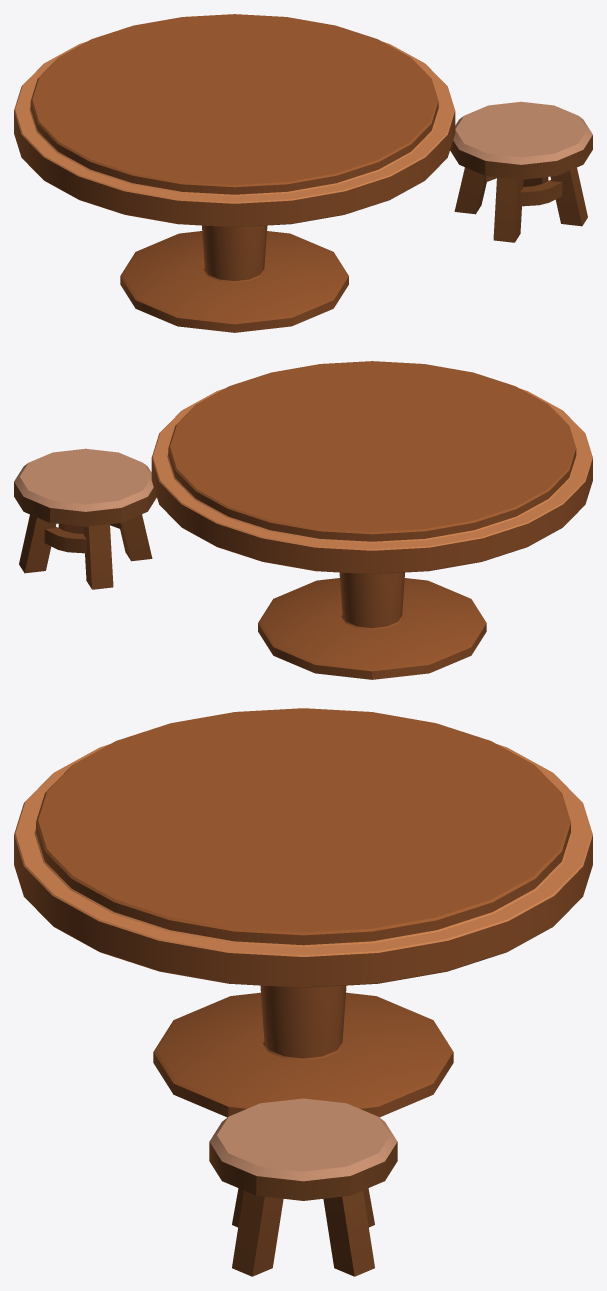
Rendered from PirateProps.fbx.
3 renders of one model, top to bottom at view 1: azimuth 30°, elevation 25°; view 2: azimuth 150°, elevation 25°; view 3: azimuth 270°, elevation 25°, orthographic. The views are drawn at different scales.
Visible parts, largest first — view 1: Table, Stool; view 2: Table, Stool; view 3: Table, Stool.
Boxes of the visible parts, x1,y1,x2,y2 form: Table: (14, 14, 455, 332); Stool: (450, 101, 592, 242); Table: (151, 361, 592, 679); Stool: (14, 448, 156, 589); Table: (14, 708, 592, 1117); Stool: (209, 1098, 397, 1276).
Bounding box in the file's own units: 1130 × 370 × 800.
